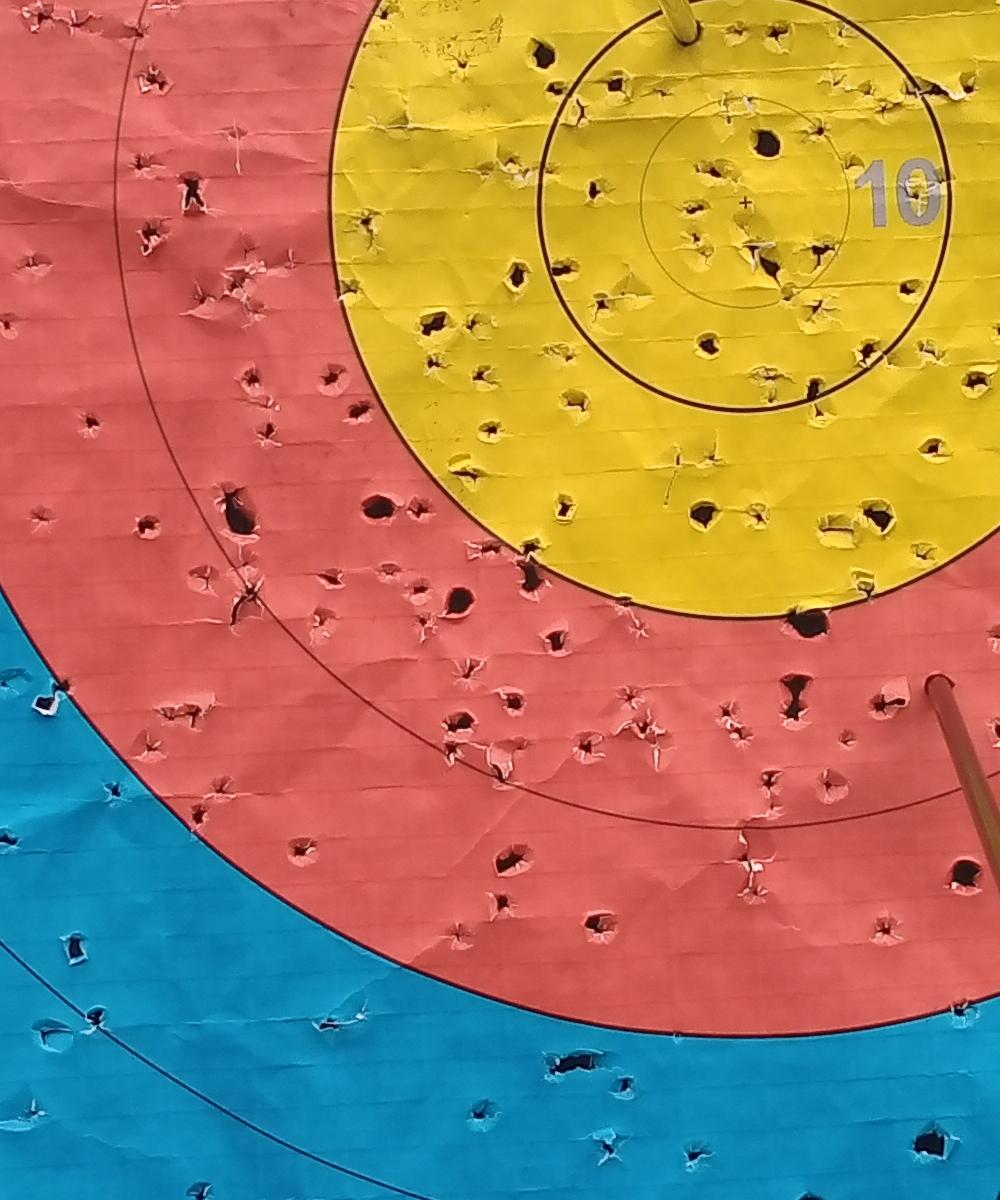10-Ring: (536, 0, 952, 407)
8-Ring: (120, 0, 1000, 828)
9-Ring: (331, 0, 1000, 617)
